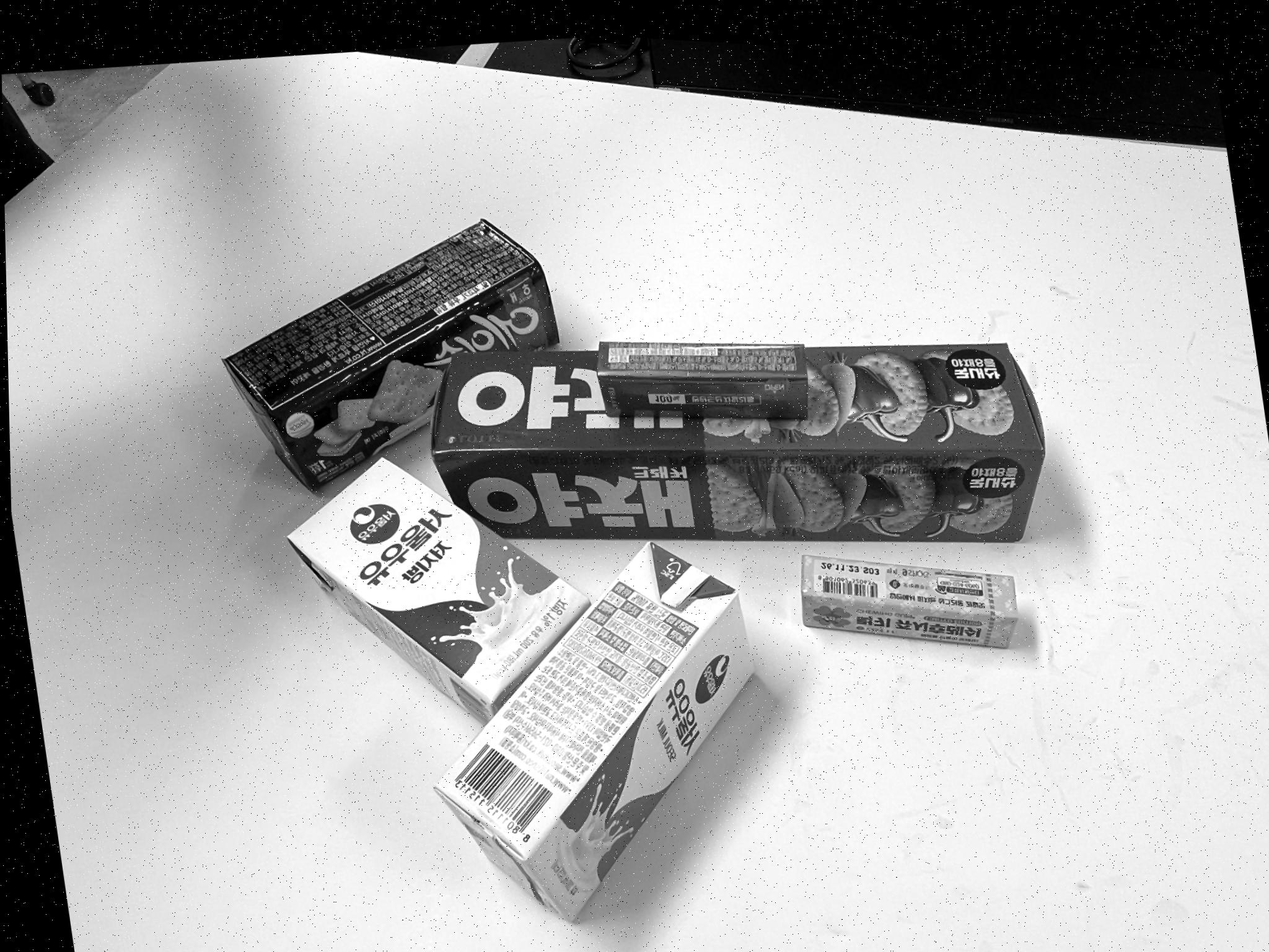cracker_ace: (224, 220, 557, 489)
cracker_vege: (431, 341, 1044, 544)
gum_green: (597, 342, 807, 418)
gum_yellow: (801, 555, 1018, 647)
milk_blue: (288, 460, 588, 719)
milk_green: (435, 543, 752, 920)
